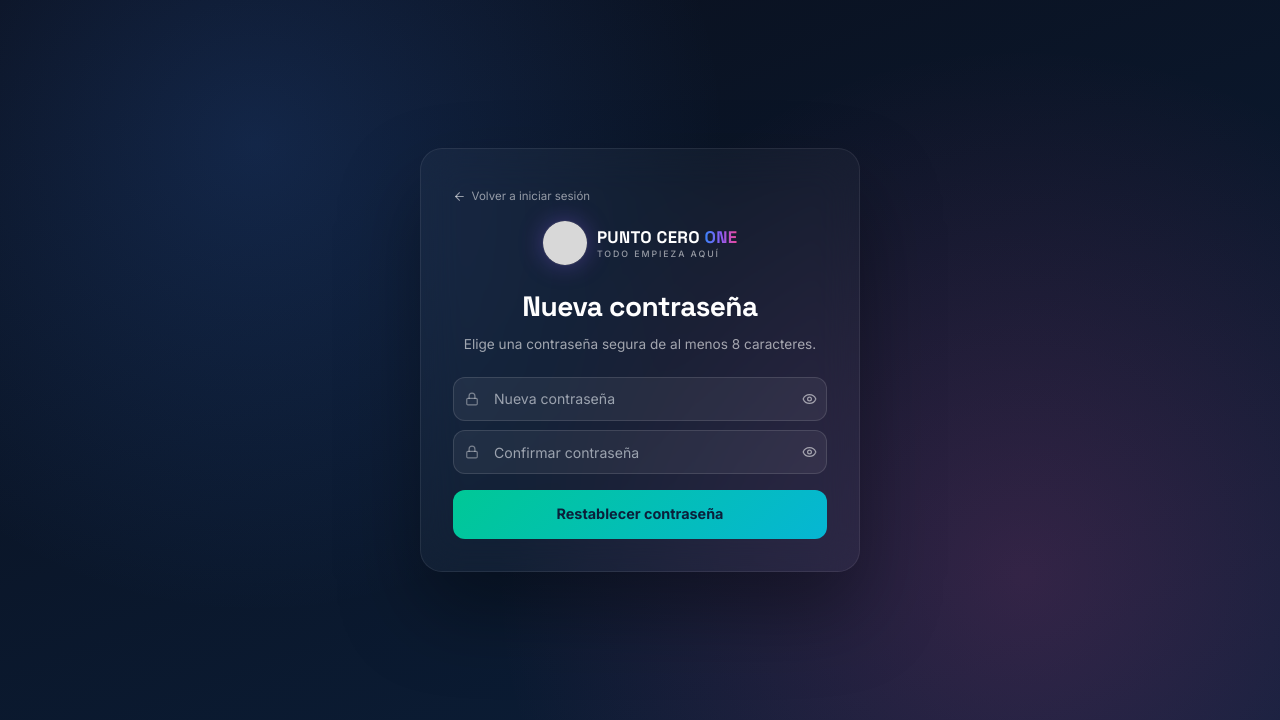
Test: Recuperación · punto de entrada en /login › Recuperación · cambio de contraseña en /reset-password › cambia la contraseña con el token, confirma y refresca la sesión
Type "nuevaclave1" into the password field with test id "reset-input-password" at (640, 399), box 453,377 -> 827,421
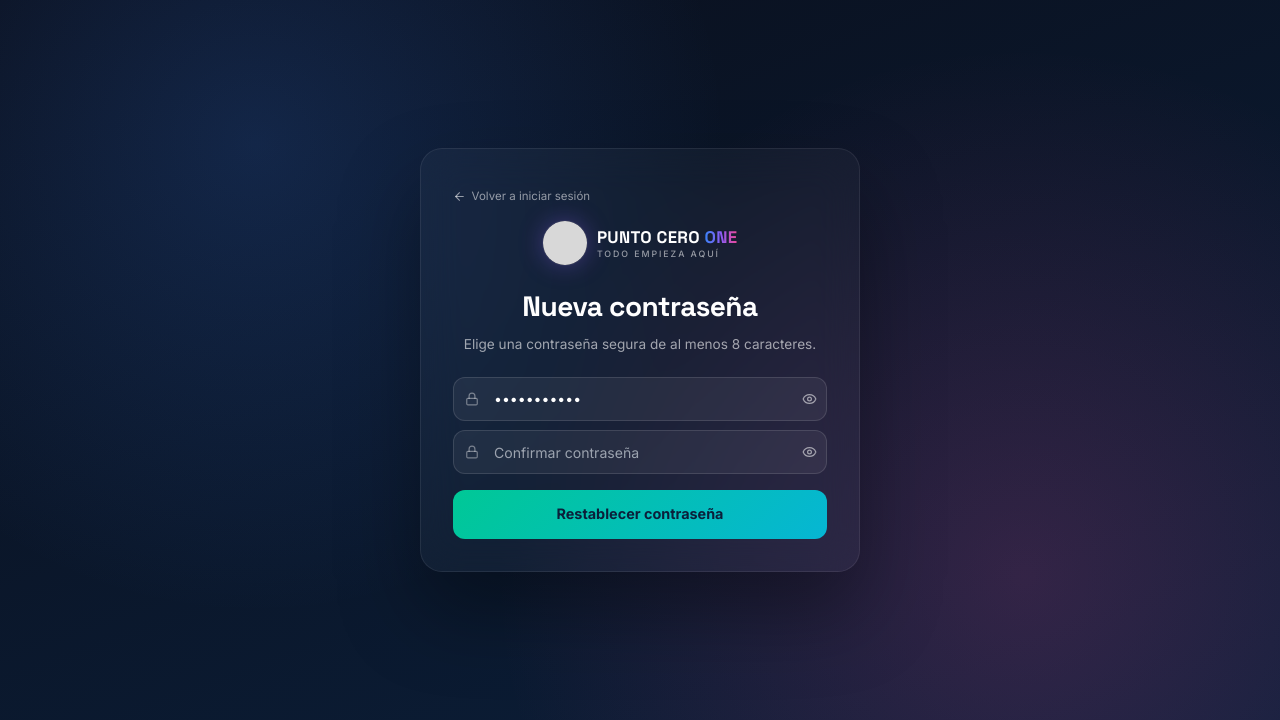
Type "nuevaclave1" into the password field with test id "reset-input-confirm" at (640, 452), box 453,430 -> 827,474
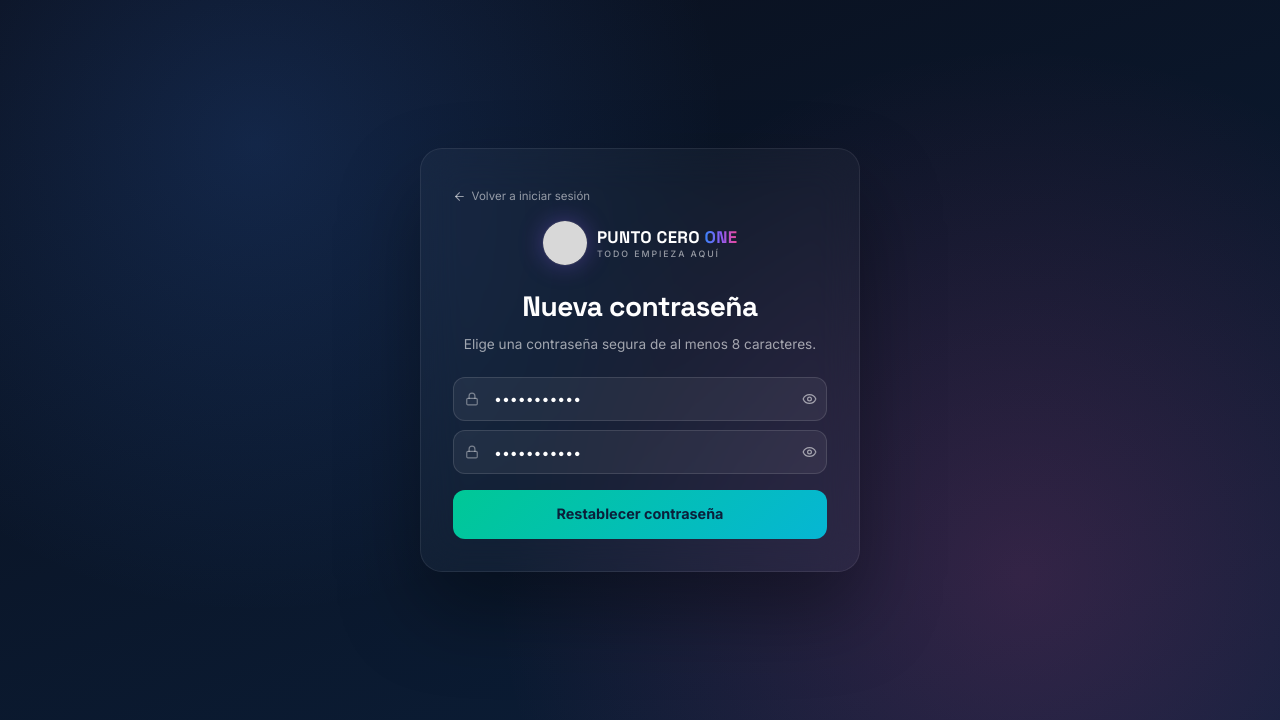
Click the button with test id "reset-submit" at (640, 514), box 453,490 -> 827,539
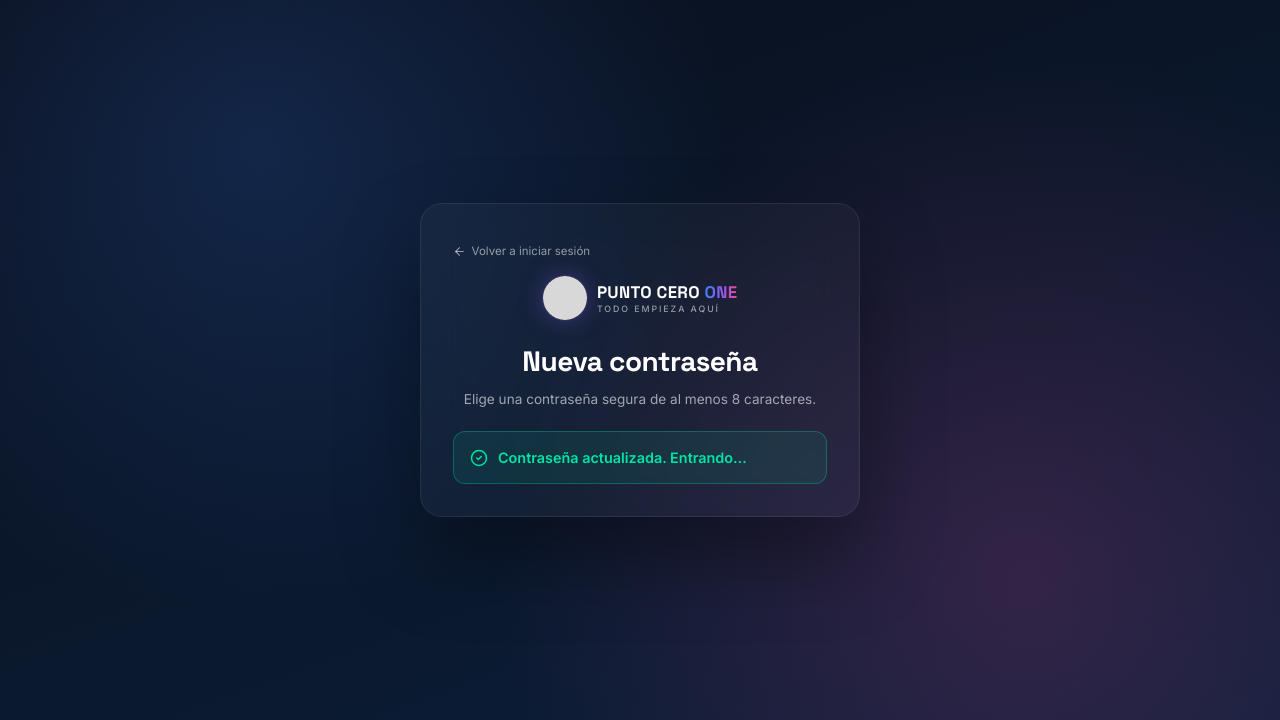
Now the element with test id "reset-success" shows "Contraseña actualizada", box 498,449 -> 747,466
